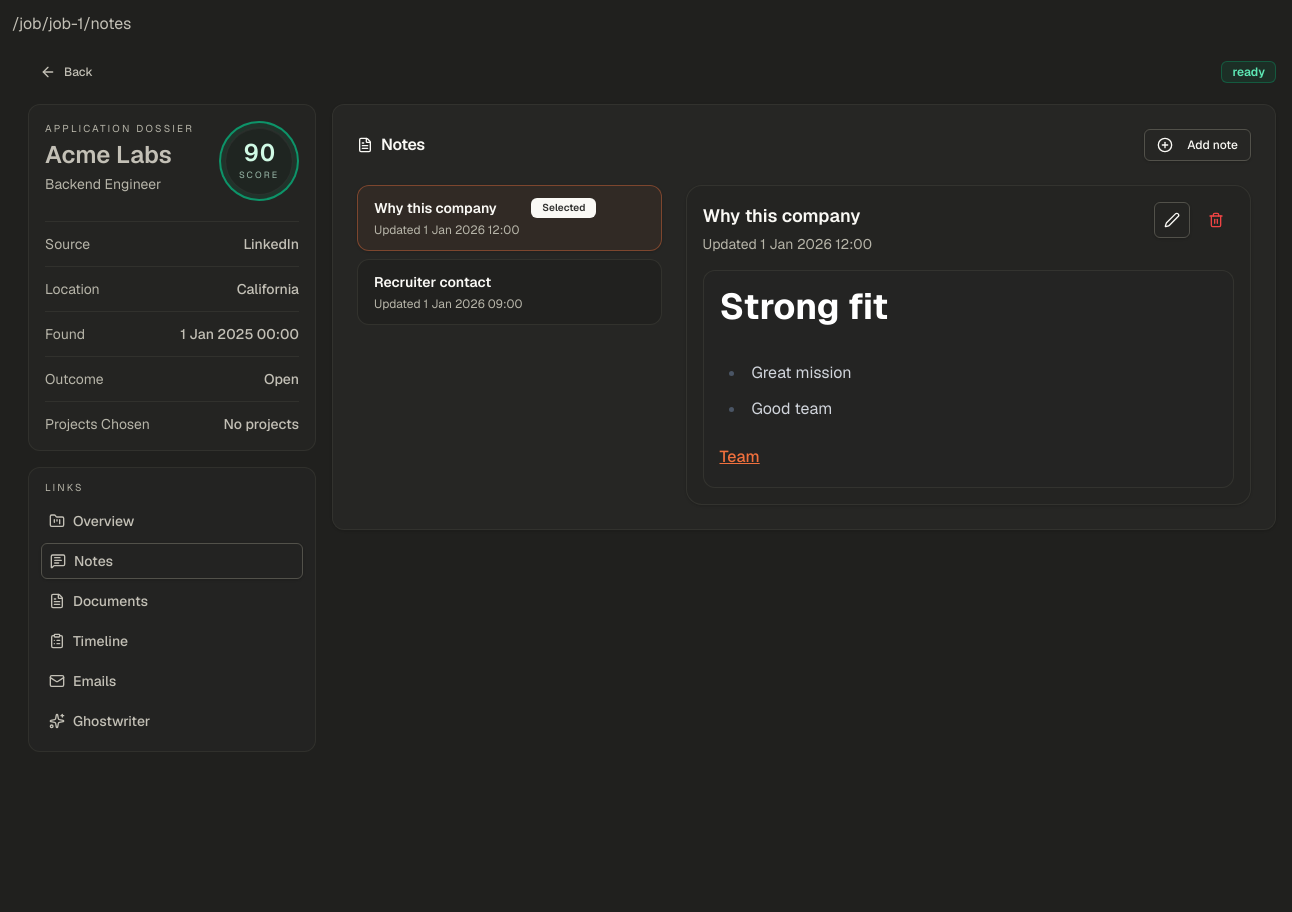
Test: JobPage notes › renders the full-width notes section and defaults to markdown preview
This screenshot has width=1292, height=912.
Expected: the heading "Acme Labs" is shown, [45,140,194,170]
Expected: the element with test id "job-notes-list" is shown, [357,185,662,325]
Click the button "Recruiter contact Updated 1 Jan 2026 09:00". click: click(433, 282)
box: [357,259,662,325]
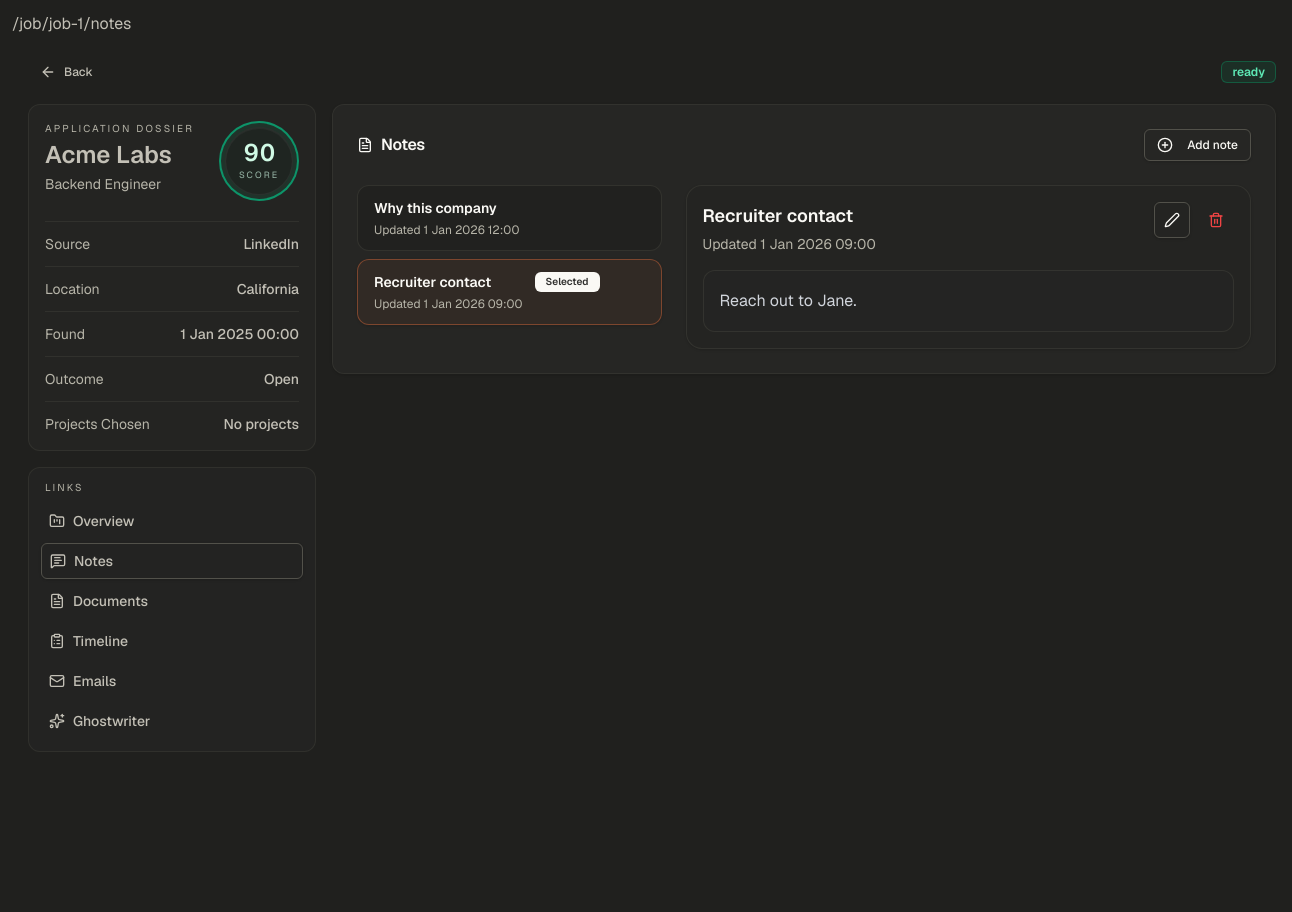
Expected: the text "Reach out to Jane." is shown, [720,290,856,311]
